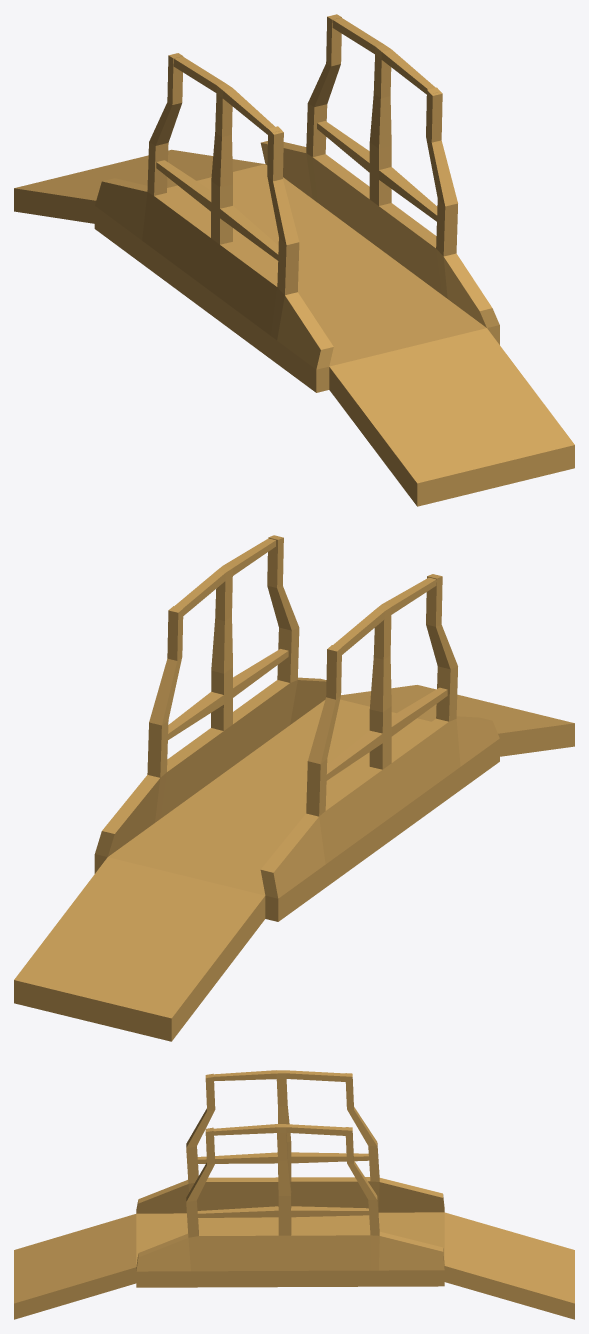
Rendered from bridge.fbx.
3 renders of one model, top to bottom at view 1: azimuth 30°, elevation 25°; view 2: azimuth 150°, elevation 25°; view 3: azimuth 270°, elevation 25°, orthographic. The views are drawn at different scales.
Parts seen in each view (by area): view 1: Cube; view 2: Cube; view 3: Cube.
Part boxes in pixels (x1=…): Cube: x1=14, y1=14, x2=574, y2=506; Cube: x1=14, y1=535, x2=574, y2=1041; Cube: x1=14, y1=1070, x2=574, y2=1319.
Bounding box in the file's own units: 326 × 474 × 1240.
